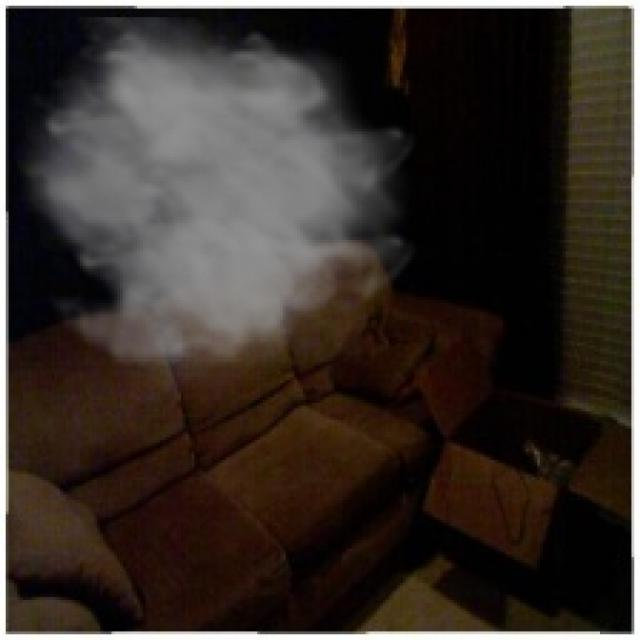smoke: (11, 17, 420, 403)
